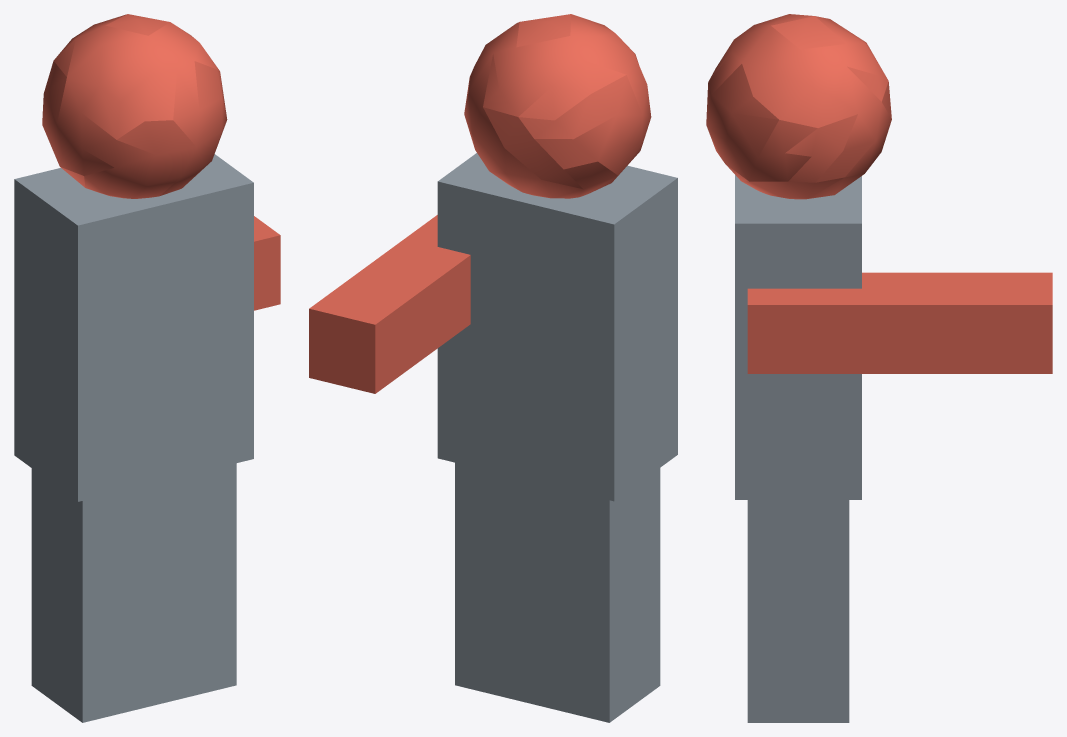
File: SU_VektorOfficer_LOD2.glb
3 views of the same model, side by side, from view 1: azimuth 30°, elevation 25°; view 2: azimuth 150°, elevation 25°; view 3: azimuth 270°, elevation 25° (orthographic).
Parts seen in each view (by area): view 1: Head; view 2: Head; view 3: Head.
Boxes of the visible parts, x1,y1,x2,y2 form: Head: [14, 14, 280, 722]; Head: [309, 14, 677, 722]; Head: [706, 14, 1052, 722].
Bounding box in the file's own units: 57 × 173 × 81.81.
